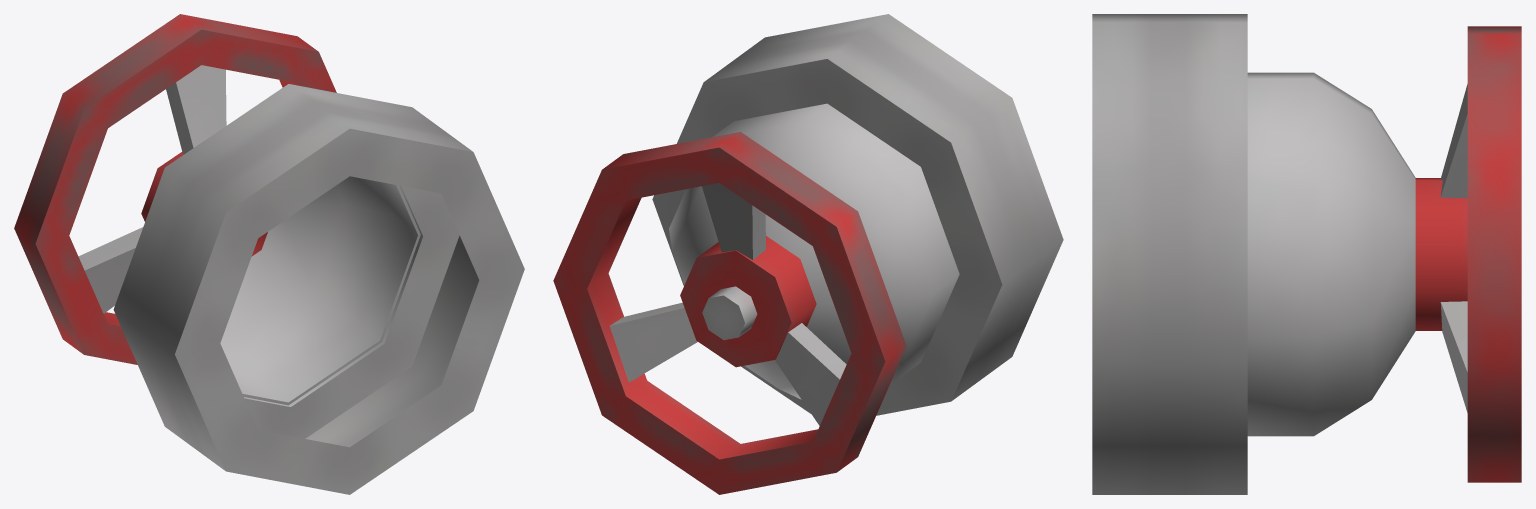
The model's file is Pipe_Switch.fbx.
3 views of the same model, side by side, from view 1: azimuth 30°, elevation 25°; view 2: azimuth 150°, elevation 25°; view 3: azimuth 270°, elevation 25° (orthographic). The views are drawn at different scales.
Parts seen in each view (by area): view 1: Mat_Pipe_01; view 2: Mat_Pipe_01; view 3: Mat_Pipe_01.
Boxes of the visible parts, bbox=[...] form: Mat_Pipe_01: bbox=[14, 14, 524, 494]; Mat_Pipe_01: bbox=[553, 14, 1063, 494]; Mat_Pipe_01: bbox=[1092, 14, 1521, 494].
Size of the model in its own units: 0.4037 by 0.4037 by 0.3385.
1 material, 1 textured.
